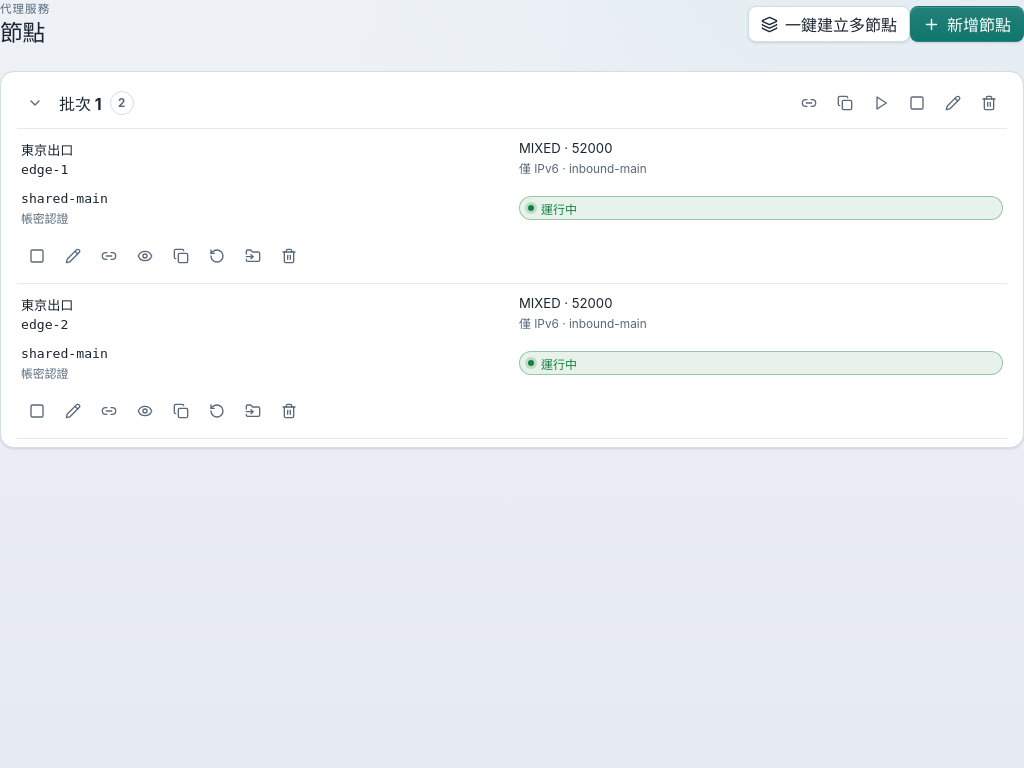
Test case: NodesView › copies a folder and preserves successful bulk actions while reporting failures
Click the button named "複製 批次 1 全部帳密" at {"x": 845, "y": 103}, box [829,87,861,119]
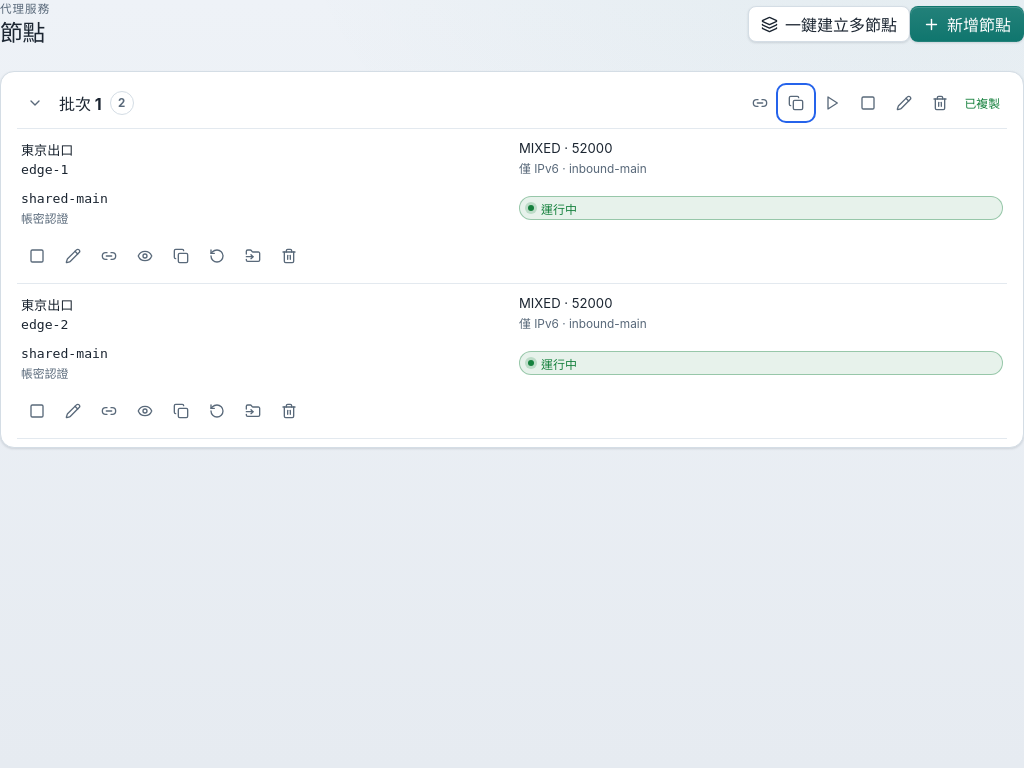
Click the button named "全部停止 批次 1" at {"x": 868, "y": 103}, box [852,87,884,119]
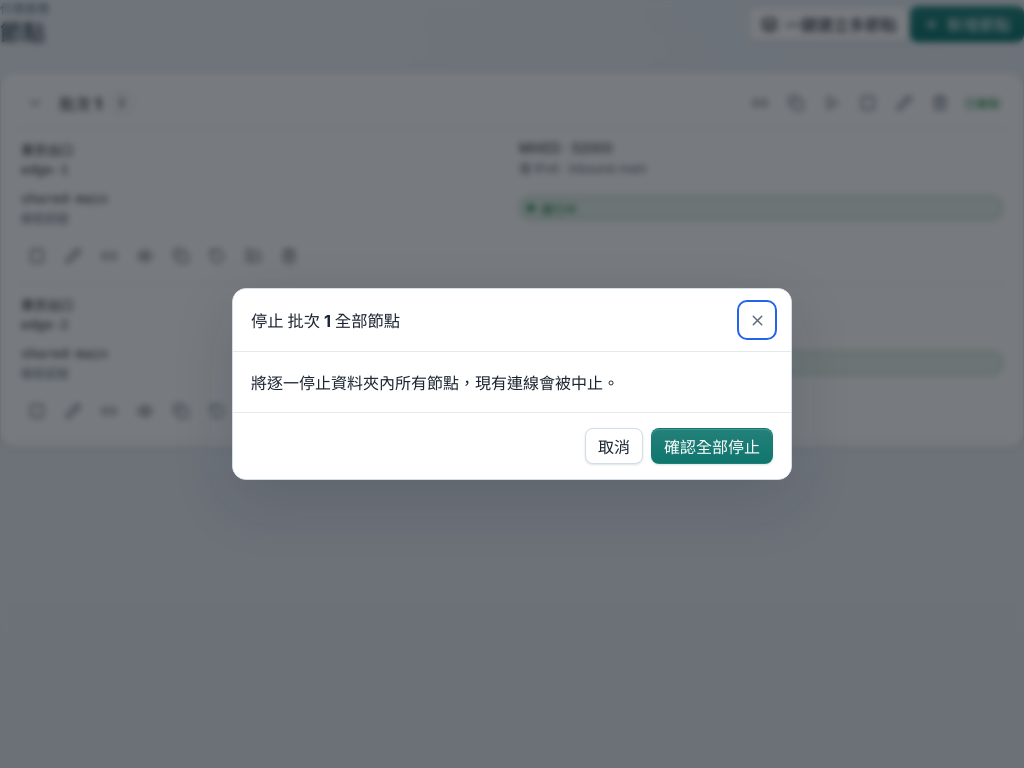
Click the button "確認全部停止" at {"x": 712, "y": 446}, box [651,428,773,464]
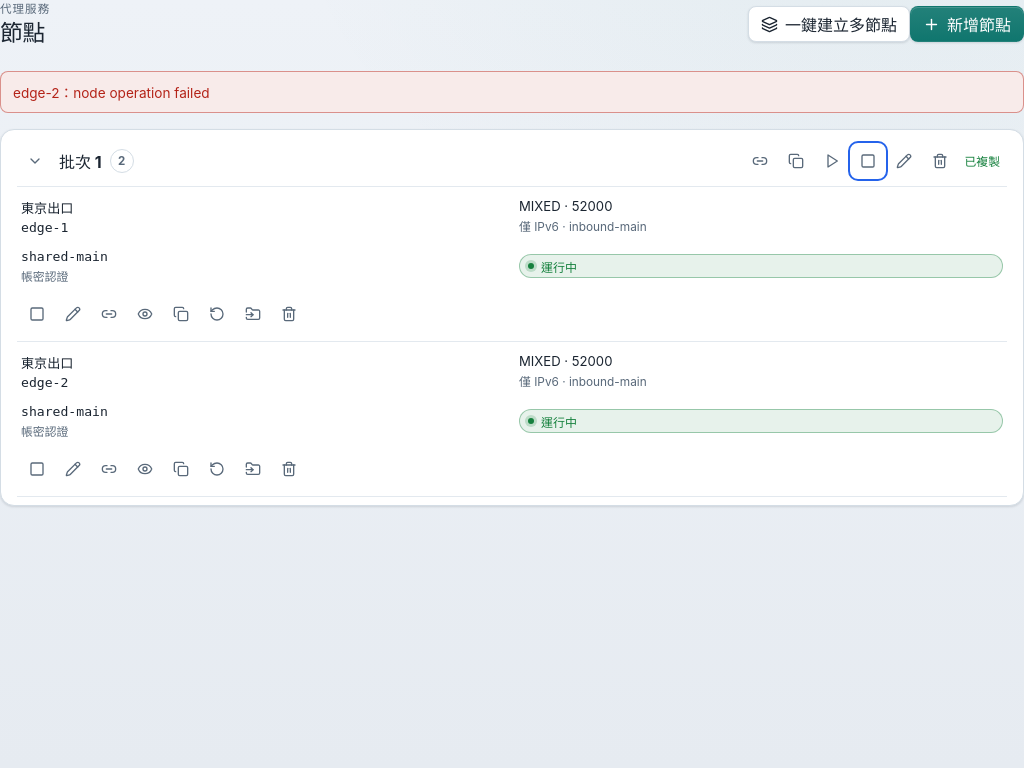
Now the message "edge-2：node operation failed" is shown, box [0,71,1023,113]
Click the button named "刪除資料夾 批次 1" at {"x": 940, "y": 161}, box [924,145,956,177]
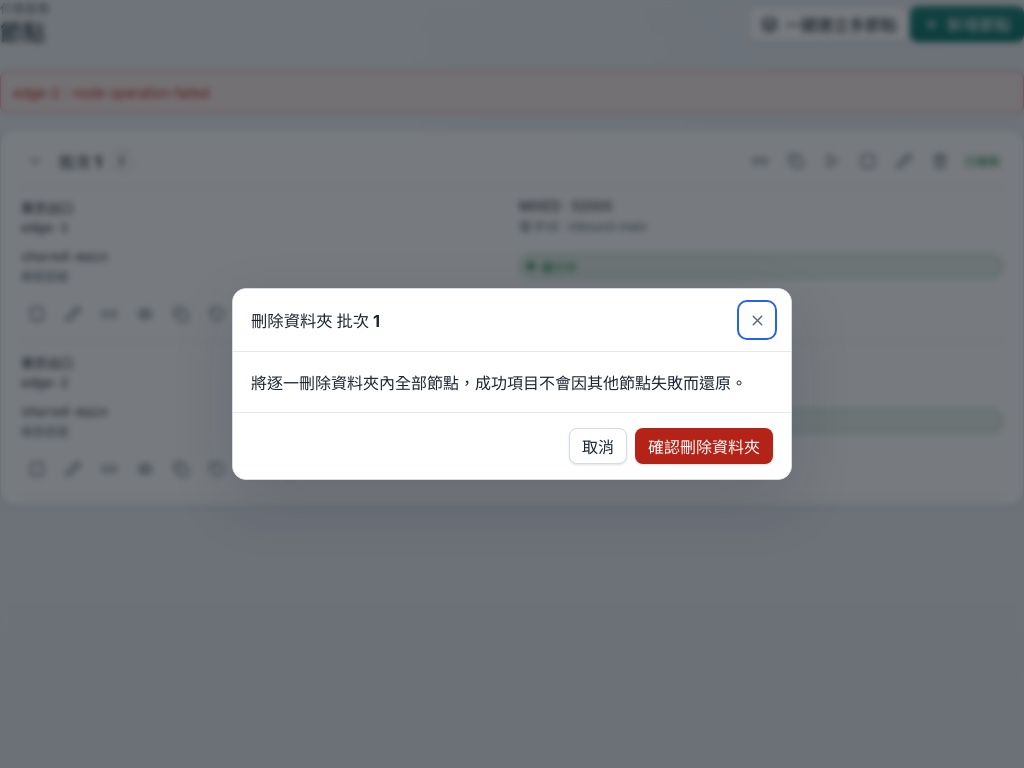
Now the dialog "刪除資料夾 批次 1" shows "將逐一刪除資料夾內全部節點", box [251,373,747,393]
